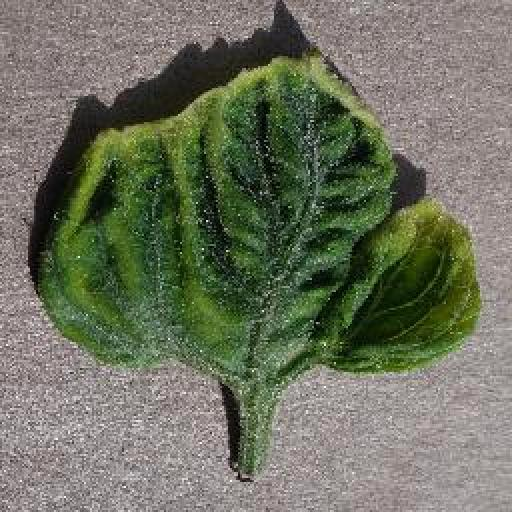disease_tomato: (34, 52, 484, 376)
